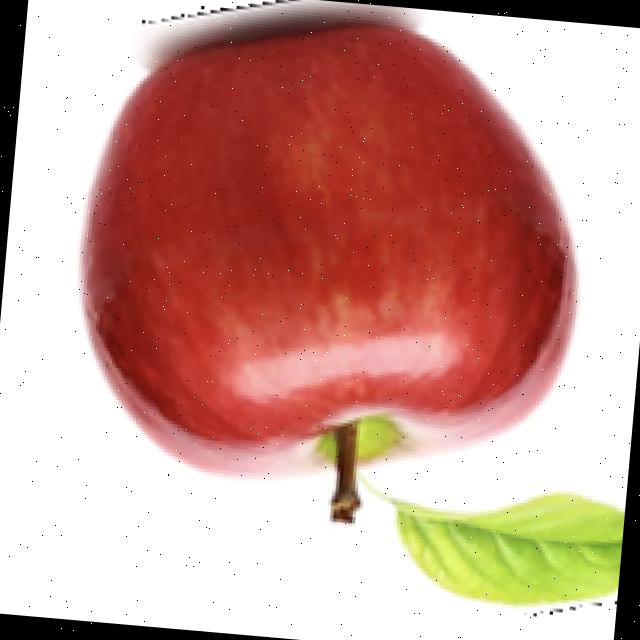apple: (74, 0, 584, 529)
